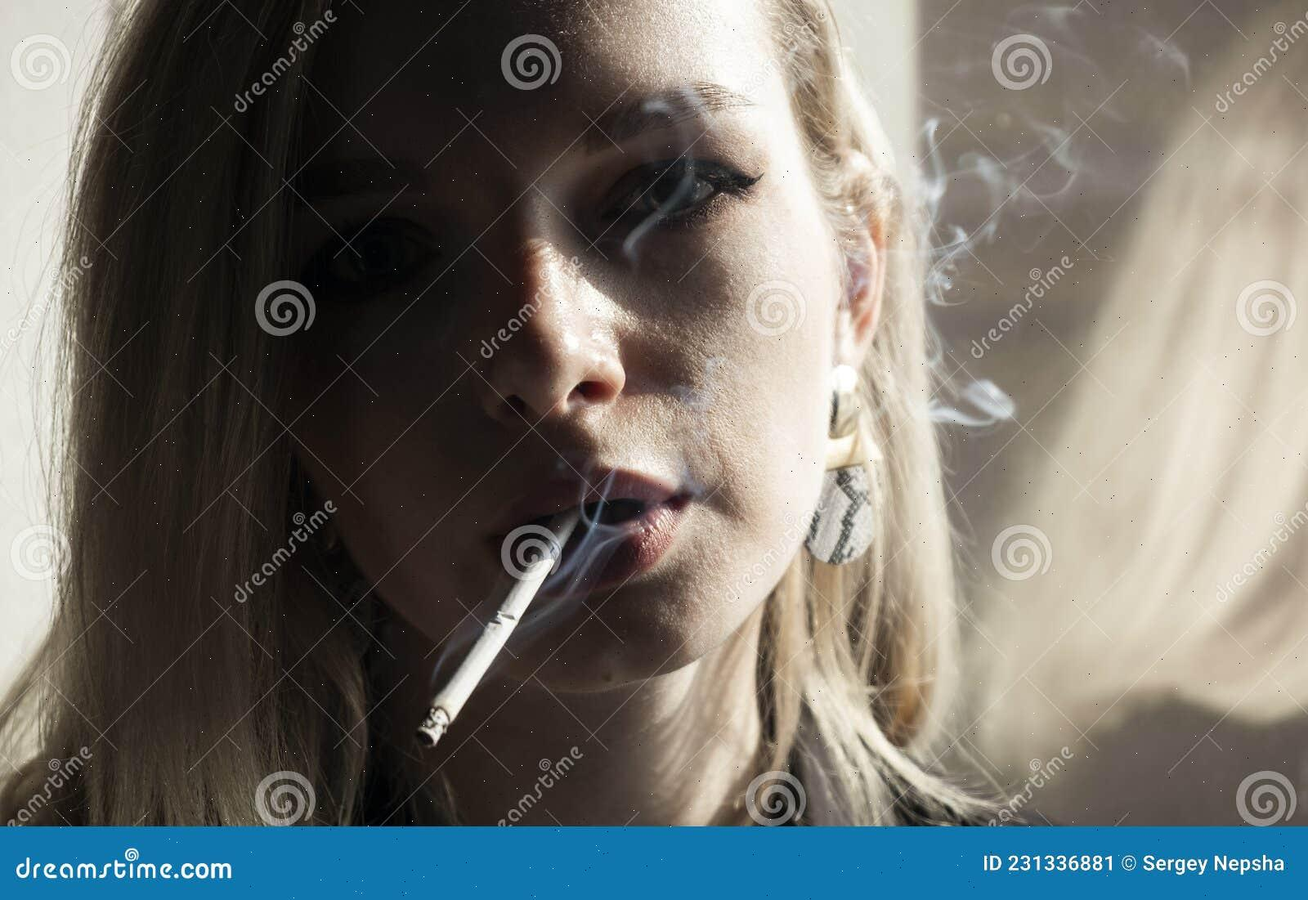cigarette: (417, 508, 580, 746)
